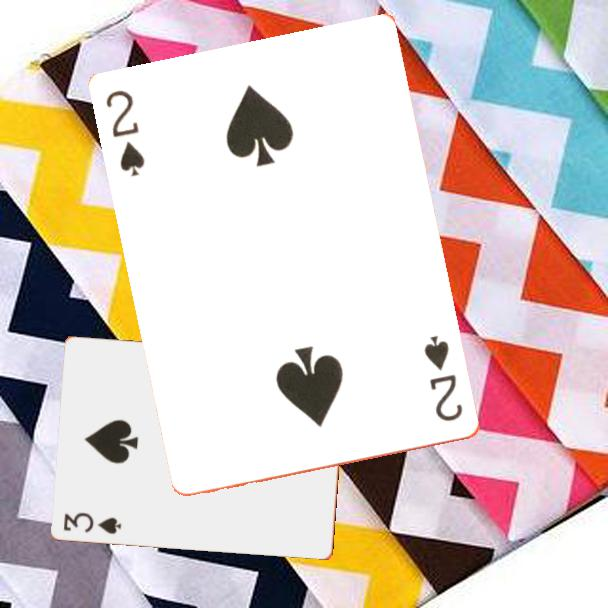s02: (103, 87, 149, 180), (421, 332, 466, 425)
s03: (60, 509, 125, 537)
